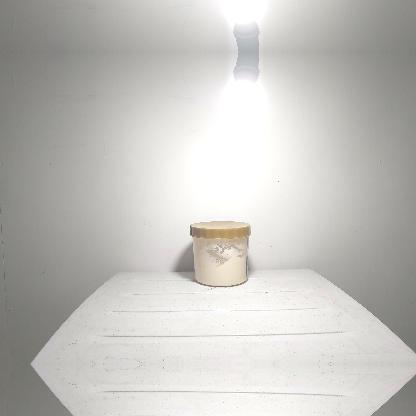Lady-s-Choice: (189, 220, 251, 286)
